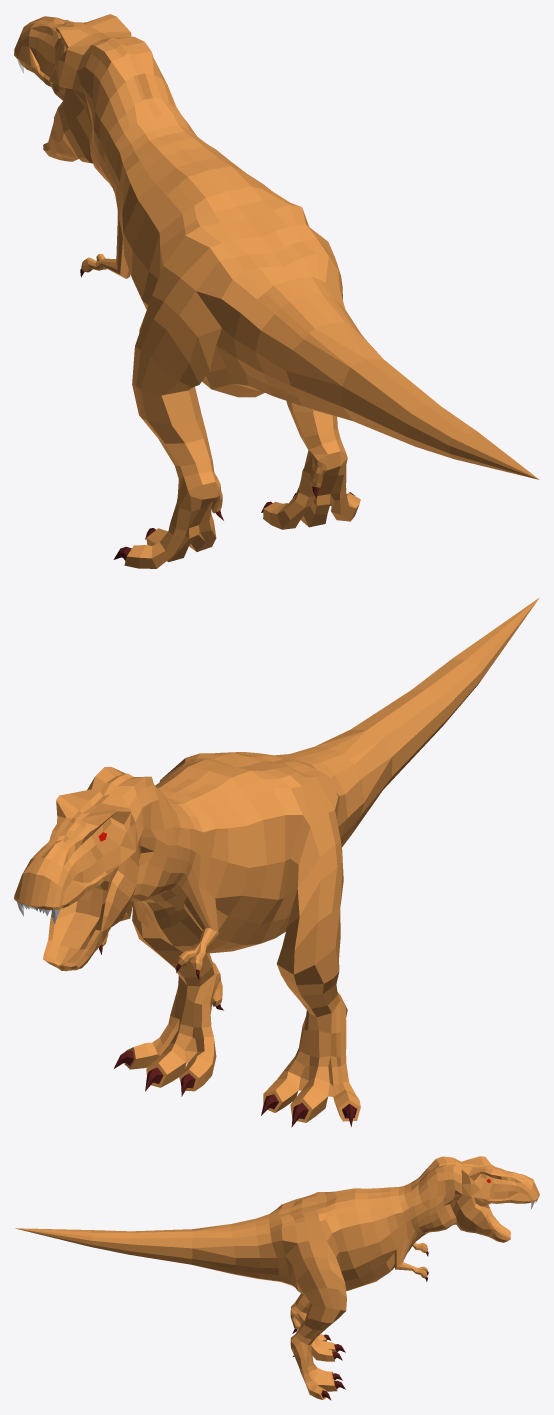
Rendered from trex_full.fbx.
The picture shows the model from 3 angles, top to bottom: view 1: azimuth 30°, elevation 25°; view 2: azimuth 150°, elevation 25°; view 3: azimuth 270°, elevation 25°; orthographic projection. The views are drawn at different scales.
Visible parts, largest first — view 1: trex_src_1.002; view 2: trex_src_1.002; view 3: trex_src_1.002.
Boxes of the visible parts, x1,y1,x2,y2 form: trex_src_1.002: [14, 14, 539, 568]; trex_src_1.002: [14, 597, 539, 1127]; trex_src_1.002: [15, 1156, 539, 1400].
Bounding box in the file's own units: 1264 × 2064 × 4683.
